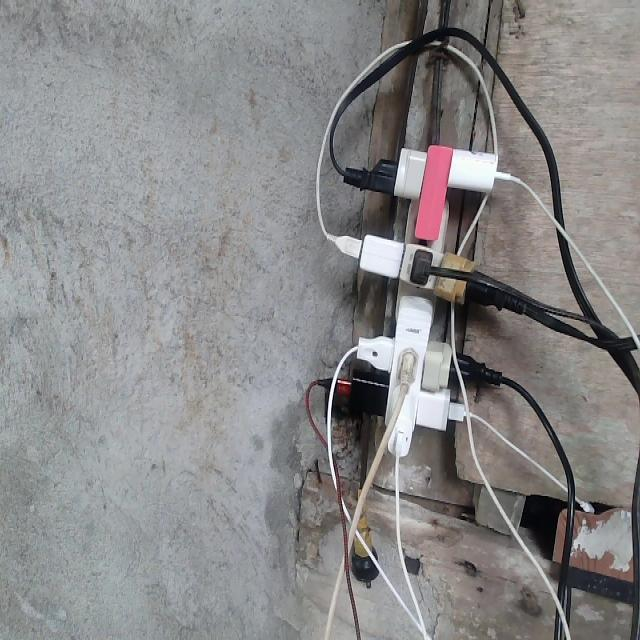-: (320, 140, 512, 459)
